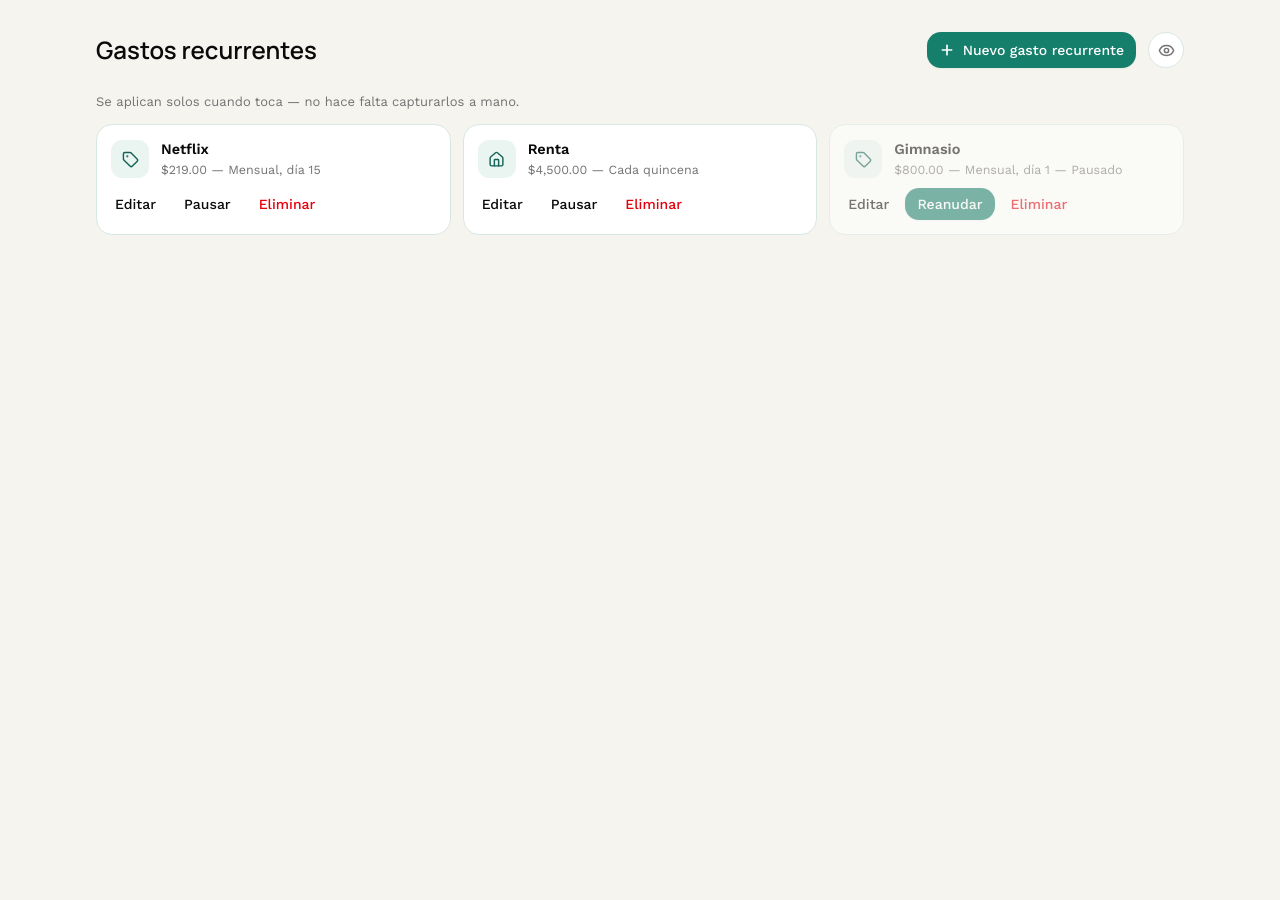
Recurrentes — crear uno › "Cancelar" cierra la hoja sin mandar nada
The width and height of the screenshot is (1280, 900).
Expected: the text "Netflix" is shown, top-left (161, 140), bottom-right (209, 158)
Click the button "Nuevo gasto recurrente": (1031, 50) top-left (927, 32), bottom-right (1136, 68)
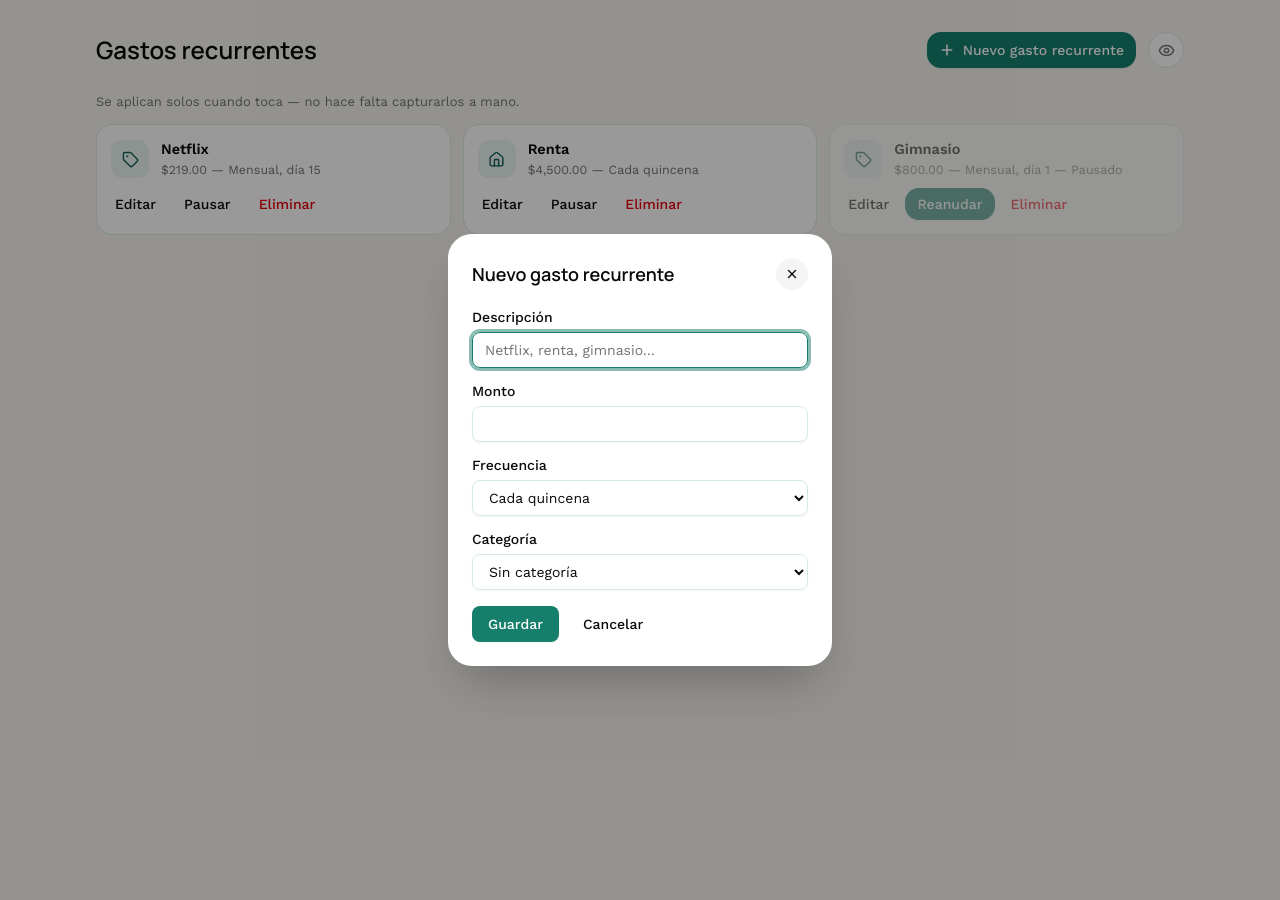
Click the button "Cancelar": (613, 624) top-left (567, 606), bottom-right (659, 642)
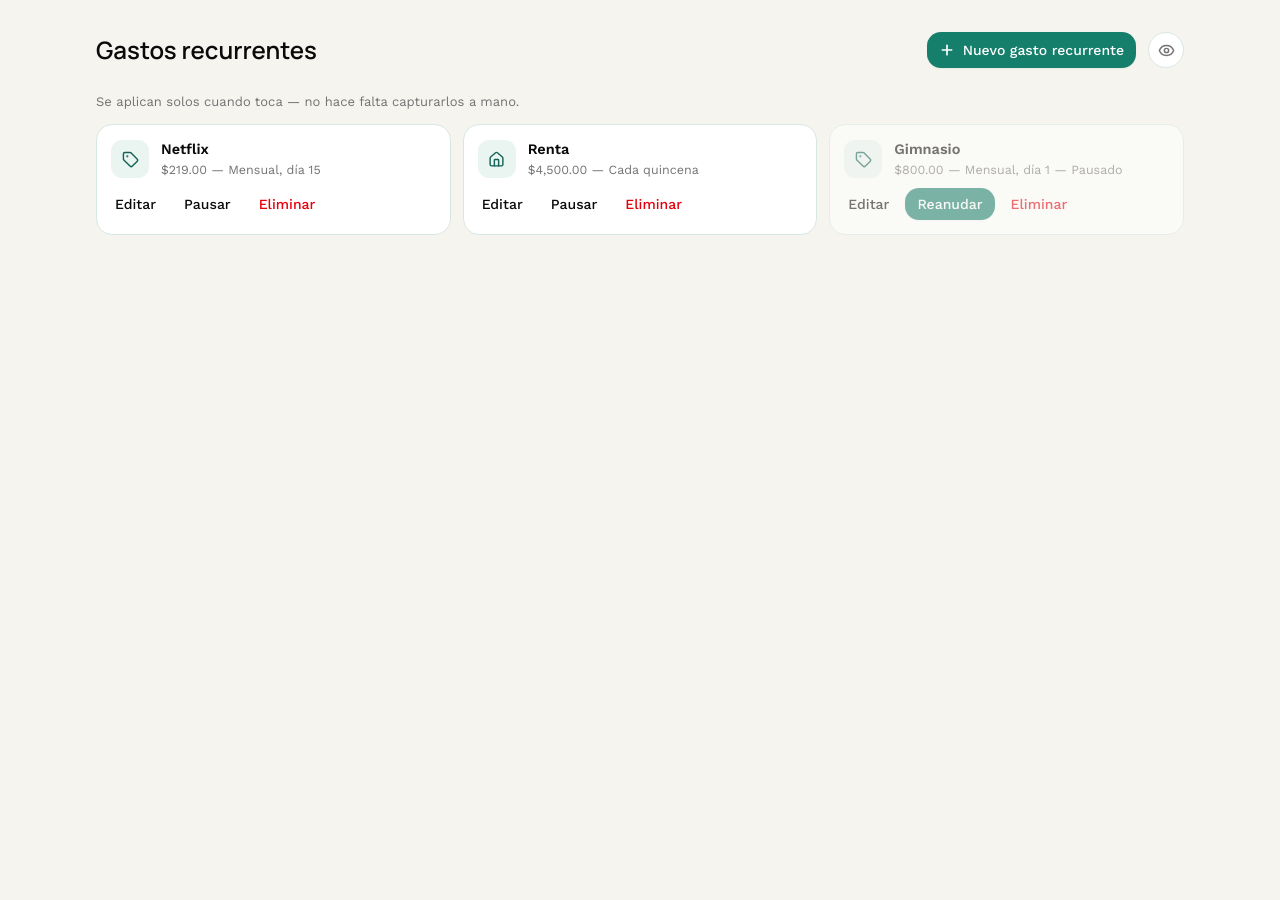
Expected: the dialog is gone
